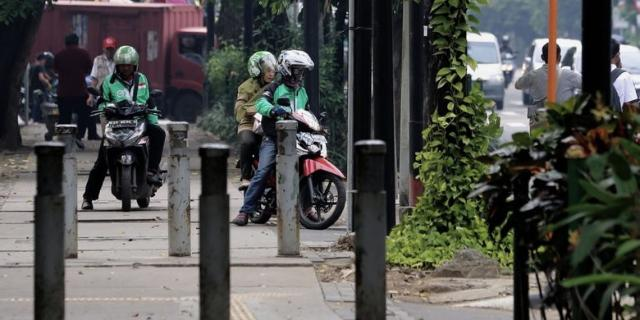helm: (279, 50, 318, 86), (248, 52, 279, 85), (115, 46, 142, 78)
motor: (240, 96, 348, 232), (89, 87, 164, 213)
